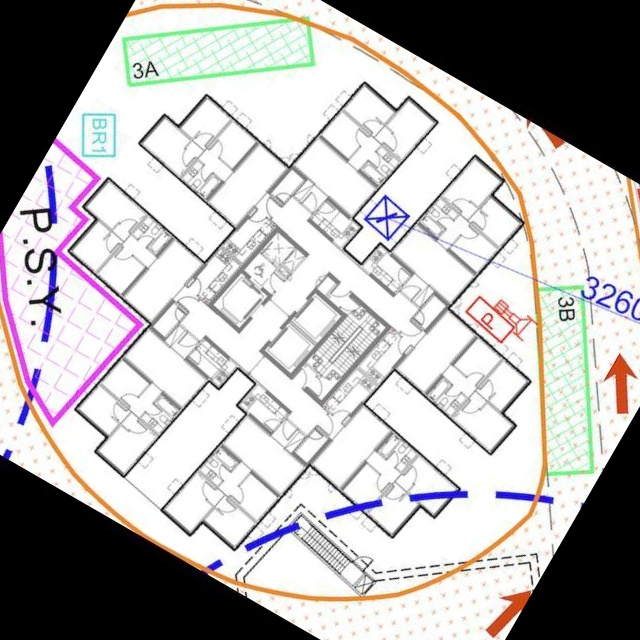tower_crane: (362, 196, 412, 242)
